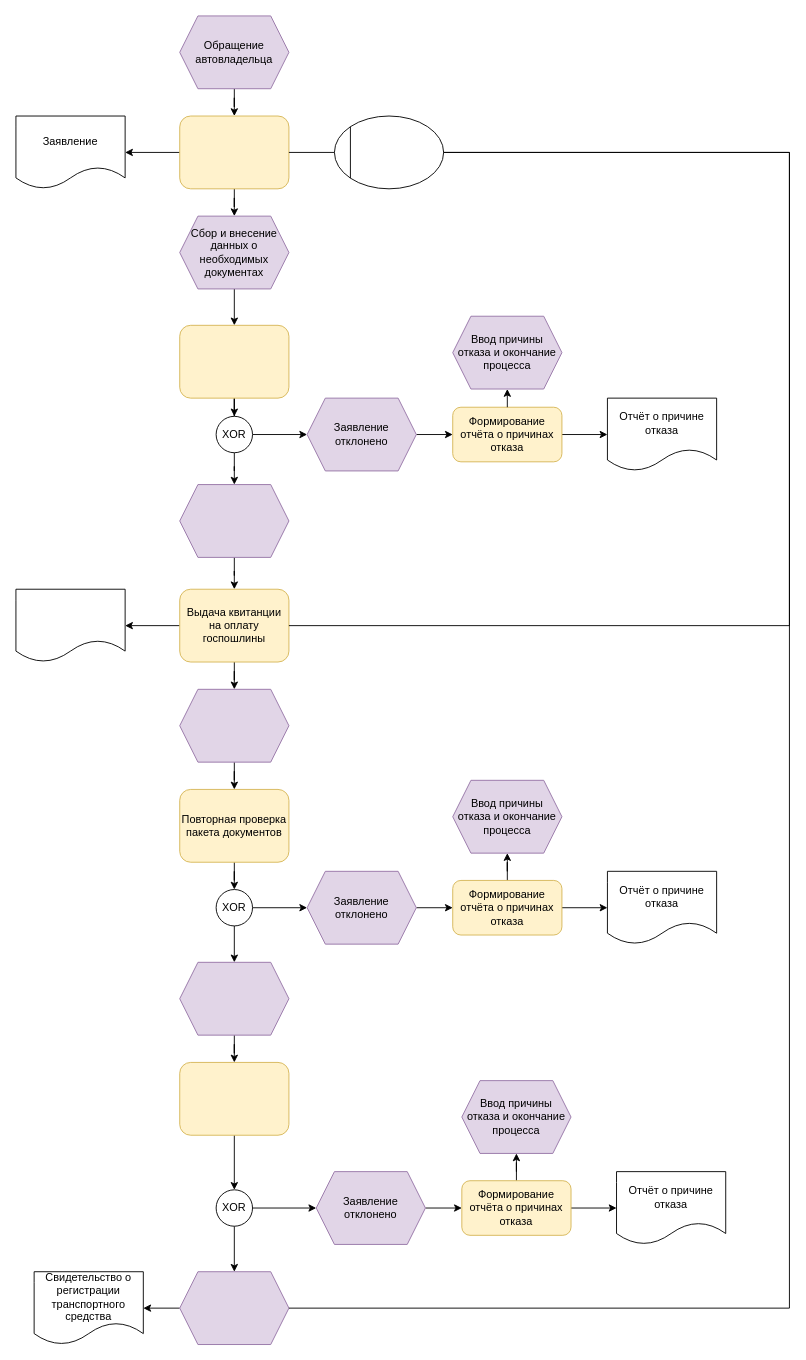
Some shapes in this 806 by 1360 pixel diagram are drawn without their labels. Here are the shapes that lost their labels. From the top down, the centre of each, then its label:
point (234, 152): Составление заявление на постановку на учёт транспортного средства
point (389, 152): Сотрудник ГИБДД
point (234, 361): Проверка документов
point (234, 520): Заявление принято
point (70, 625): Квитанция на оплату госпошлины
point (234, 725): Оплата госпошлины
point (234, 998): Осмотр транспортного средства
point (234, 1098): Выводы после осмотра траспортного средства
point (234, 1308): Выдача свидетельства и регистрационных знаков
